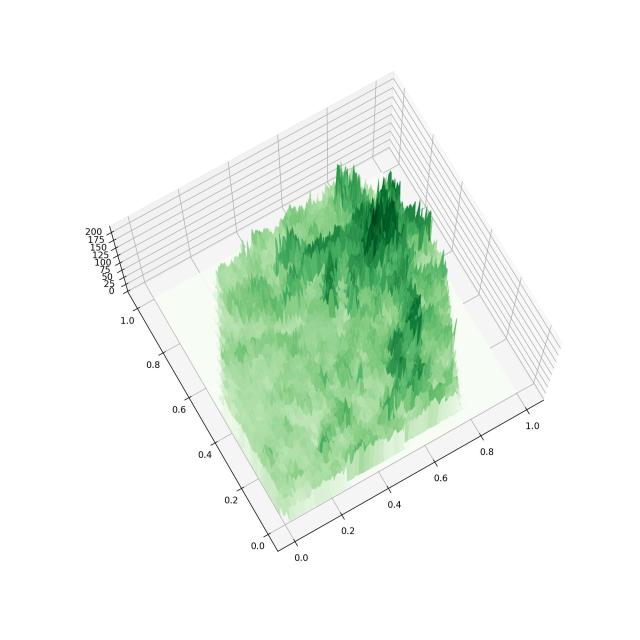spruce: (69, 45, 574, 572)
